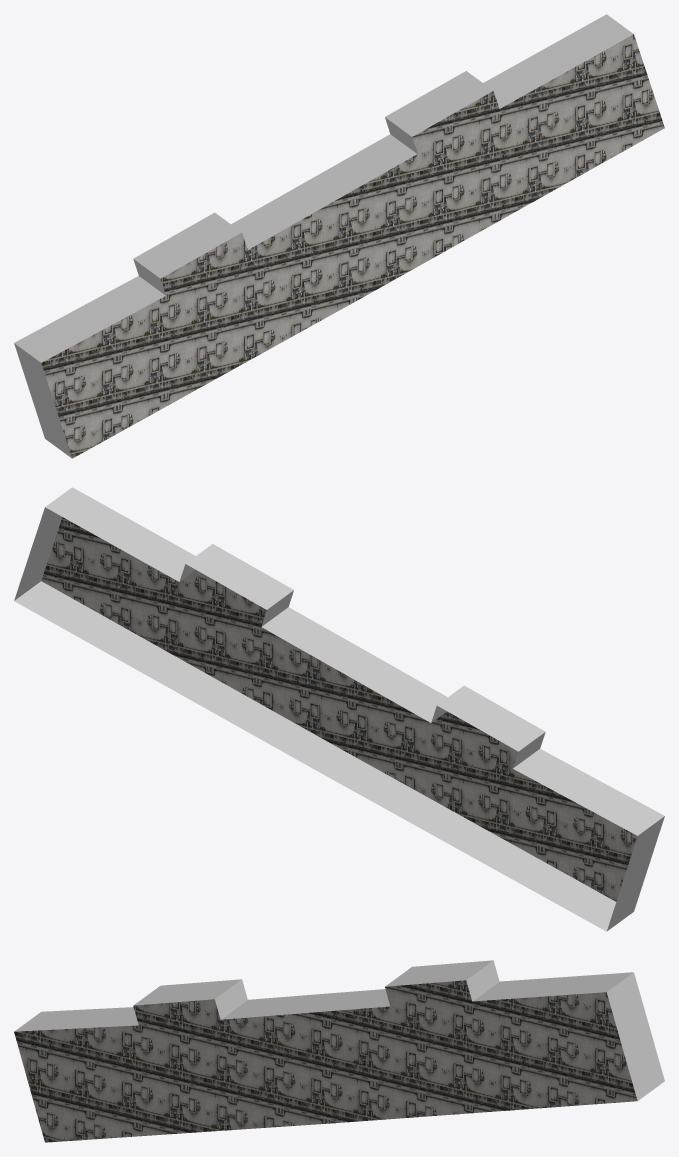
Rendered from geospecific_99.obj.
The picture shows the model from 3 angles, top to bottom: view 1: azimuth 30°, elevation 25°; view 2: azimuth 150°, elevation 25°; view 3: azimuth 330°, elevation 25°; orthographic projection.
Visible parts, largest first — view 1: Building; view 2: Building; view 3: Building.
Boxes of the visible parts, x1,y1,x2,y2 form: Building: (14,14,664,458); Building: (14,487,664,931); Building: (14,960,664,1142).
Size of the model in its own units: 39.55 by 17.42 by 3.
